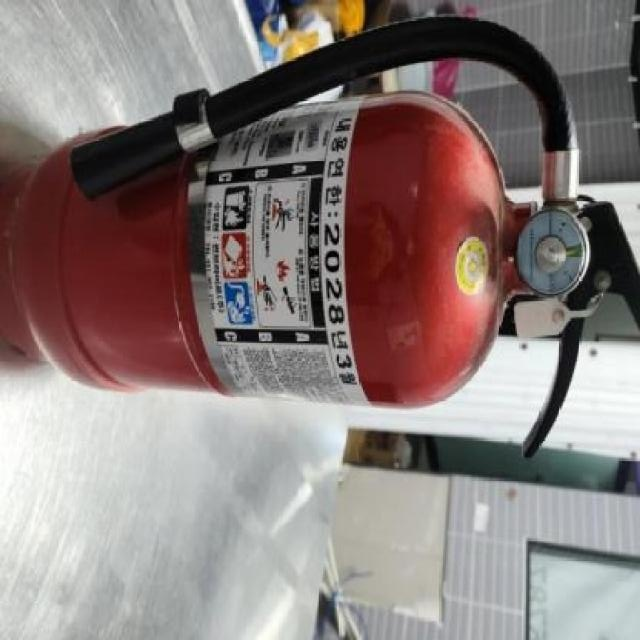fire extinguisher: (0, 15, 640, 460)
